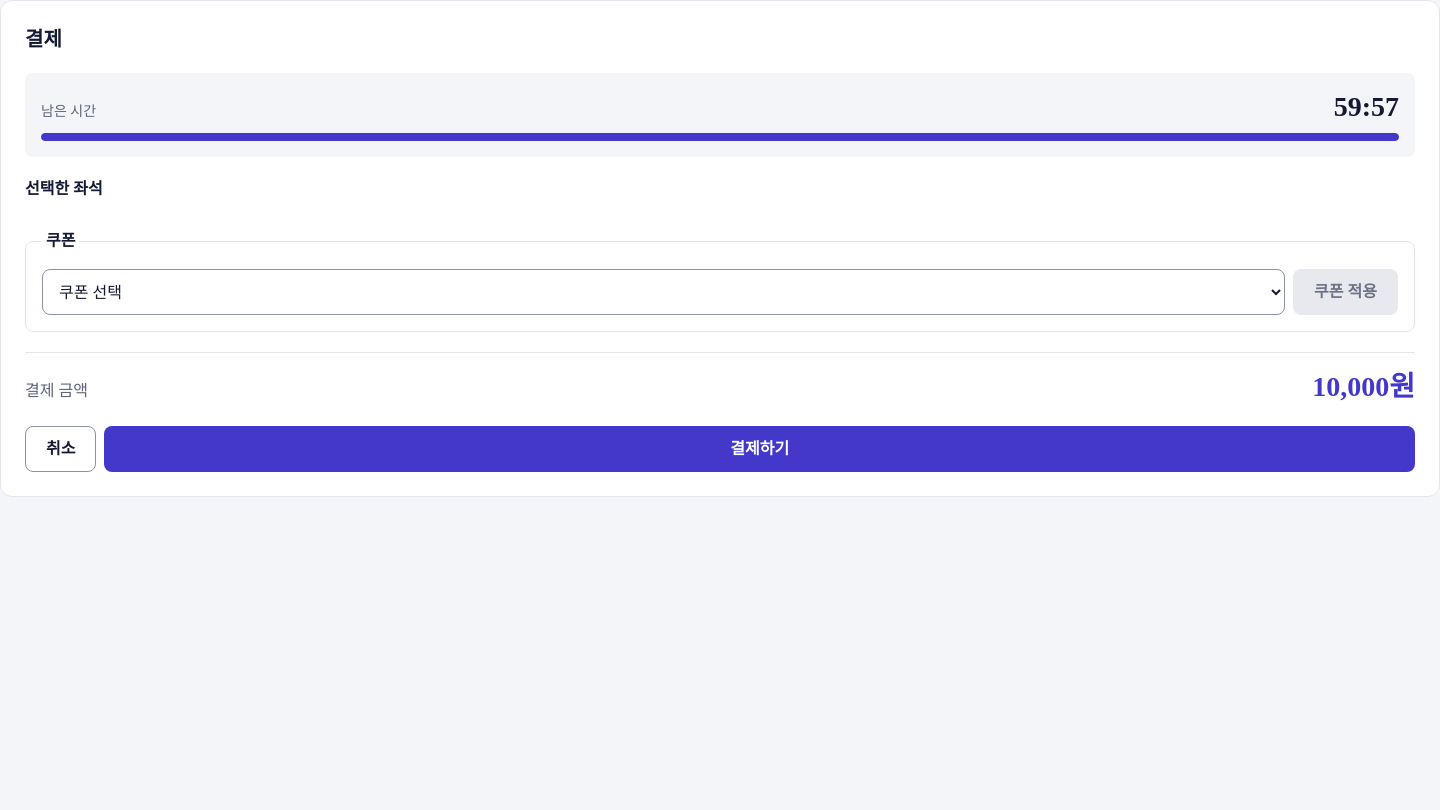
결제 화면 쿠폰 › REJECTED면 사유를 보여 주고 정가로 결제할 수 있다
Select "1000원 쿠폰" in the dropdown named "쿠폰 선택" at (664, 292), box 42,269 -> 1285,315
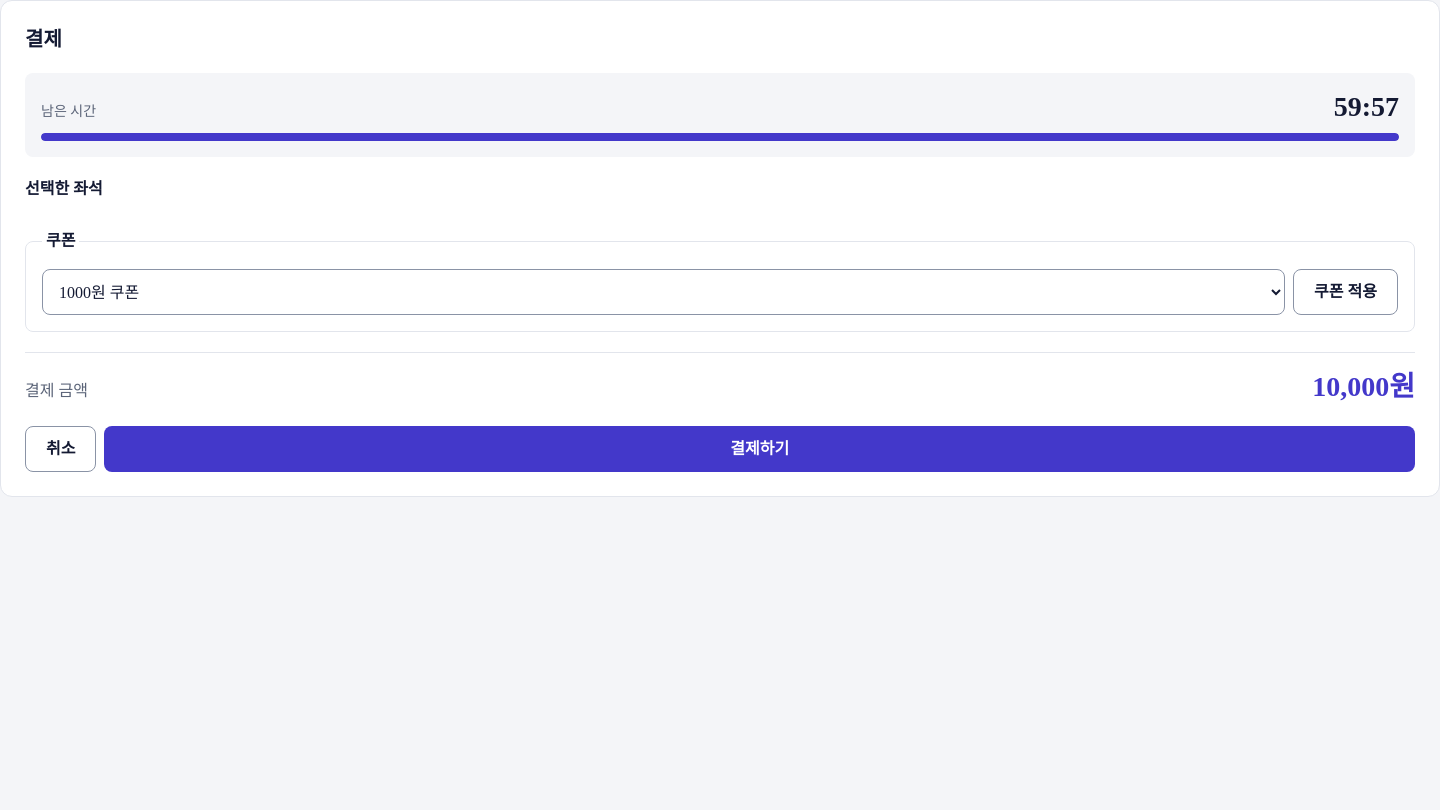
Click the button "쿠폰 적용".
click(1346, 292)  # box 1293,269 -> 1398,315
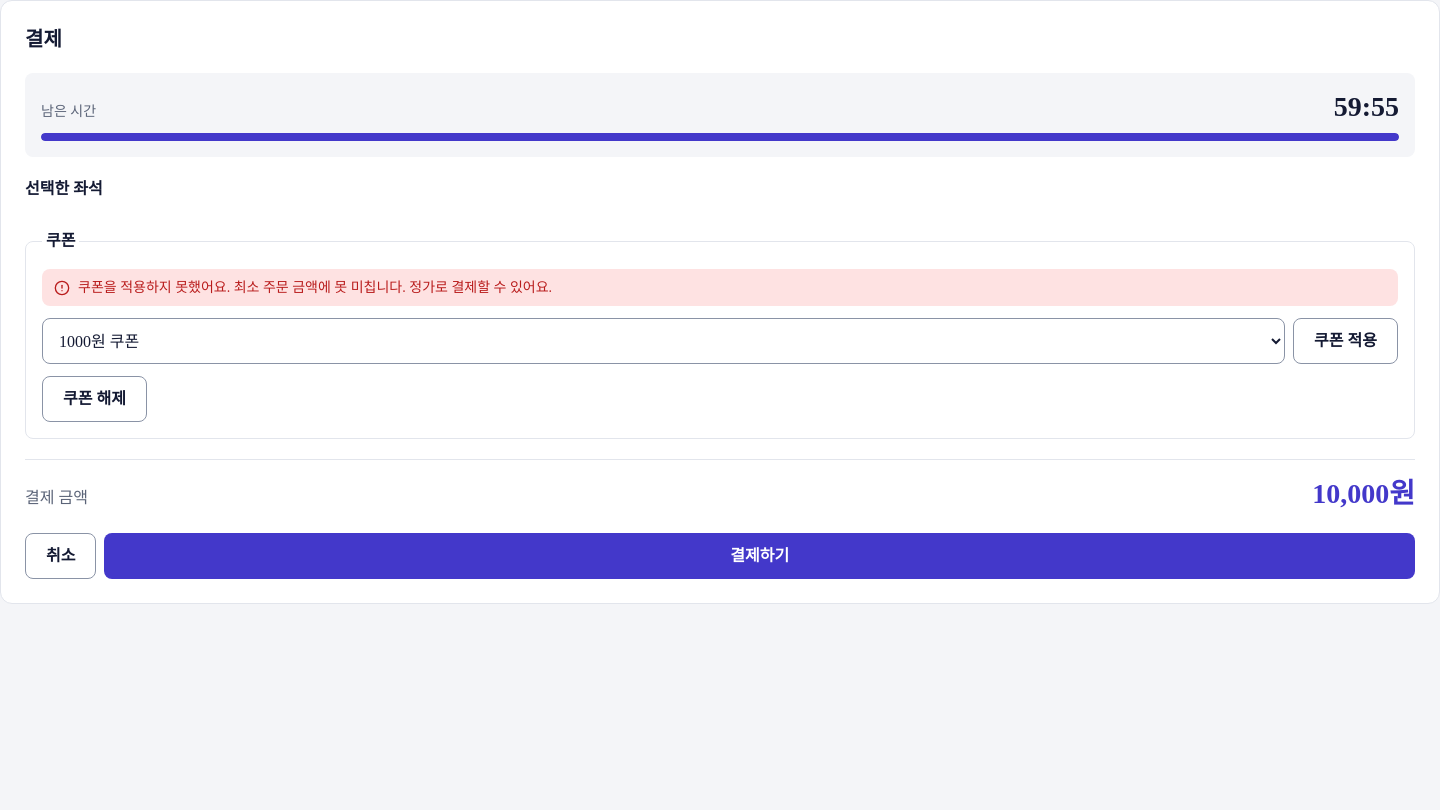
Expected: the text with test id "payable-amount" reads "10,000원", 1312,476 -> 1415,513
Expected: the text "쿠폰을 적용하지 못했어요. 최소 주문 금액에 못 미칩니다. 정가로 결제할 수 있어요." is shown, 42,269 -> 1398,306
